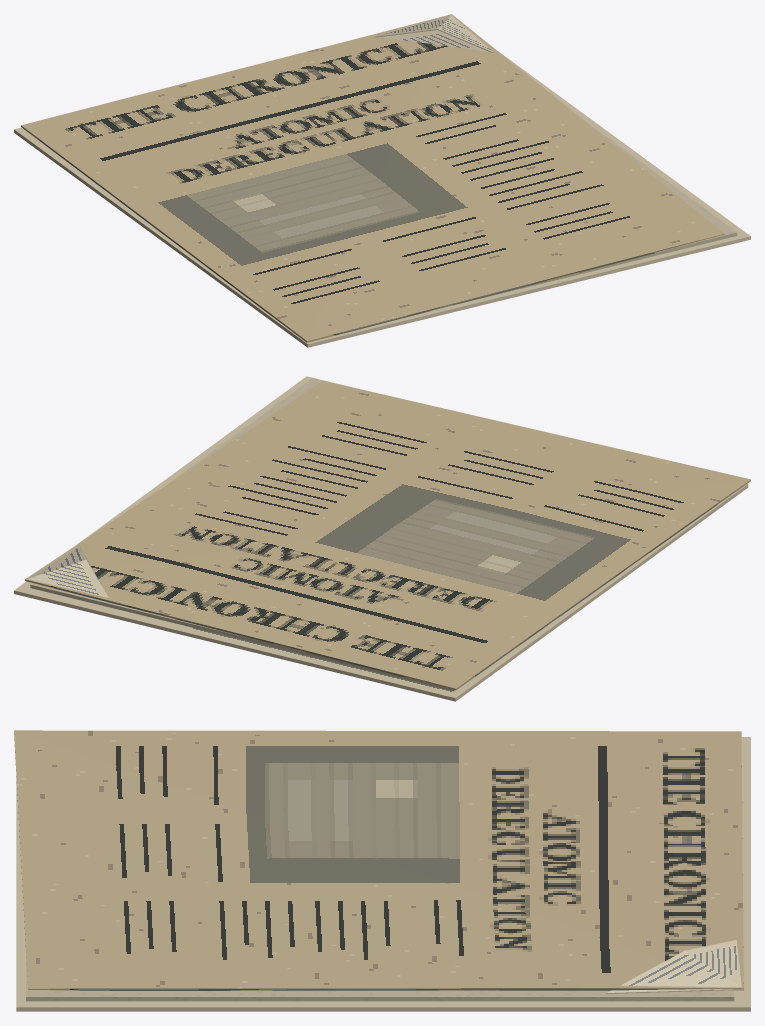
File: many_years_old_newspaper.glb
3 views of the same model, one above another, from view 1: azimuth 30°, elevation 25°; view 2: azimuth 150°, elevation 25°; view 3: azimuth 270°, elevation 25° (orthographic). The views are drawn at different scales.
Visible parts, largest first — view 1: block_front page, block_lower fold, block_creased top corner, block_interior edges; view 2: block_front page, block_lower fold, block_interior edges, block_creased top corner; view 3: block_front page, block_lower fold, block_interior edges, block_creased top corner.
Part boxes in pixels (left/top/right/bottom): block_front page: left=21, top=14, right=724, bottom=342; block_lower fold: left=14, top=50, right=750, bottom=347; block_creased top corner: left=374, top=15, right=493, bottom=52; block_interior edges: left=468, top=120, right=737, bottom=301; block_front page: left=25, top=380, right=750, bottom=690; block_lower fold: left=14, top=376, right=748, bottom=701; block_interior edges: left=30, top=378, right=454, bottom=691; block_creased top corner: left=27, top=546, right=108, bottom=597; block_front page: left=14, top=730, right=743, bottom=990; block_lower fold: left=16, top=737, right=750, bottom=1011; block_interior edges: left=26, top=952, right=734, bottom=1001; block_creased top corner: left=606, top=940, right=743, bottom=994.
Bounding box in the file's own units: 0.271 × 0.0152 × 0.311.
Materials: 1 (1 with a texture image).
